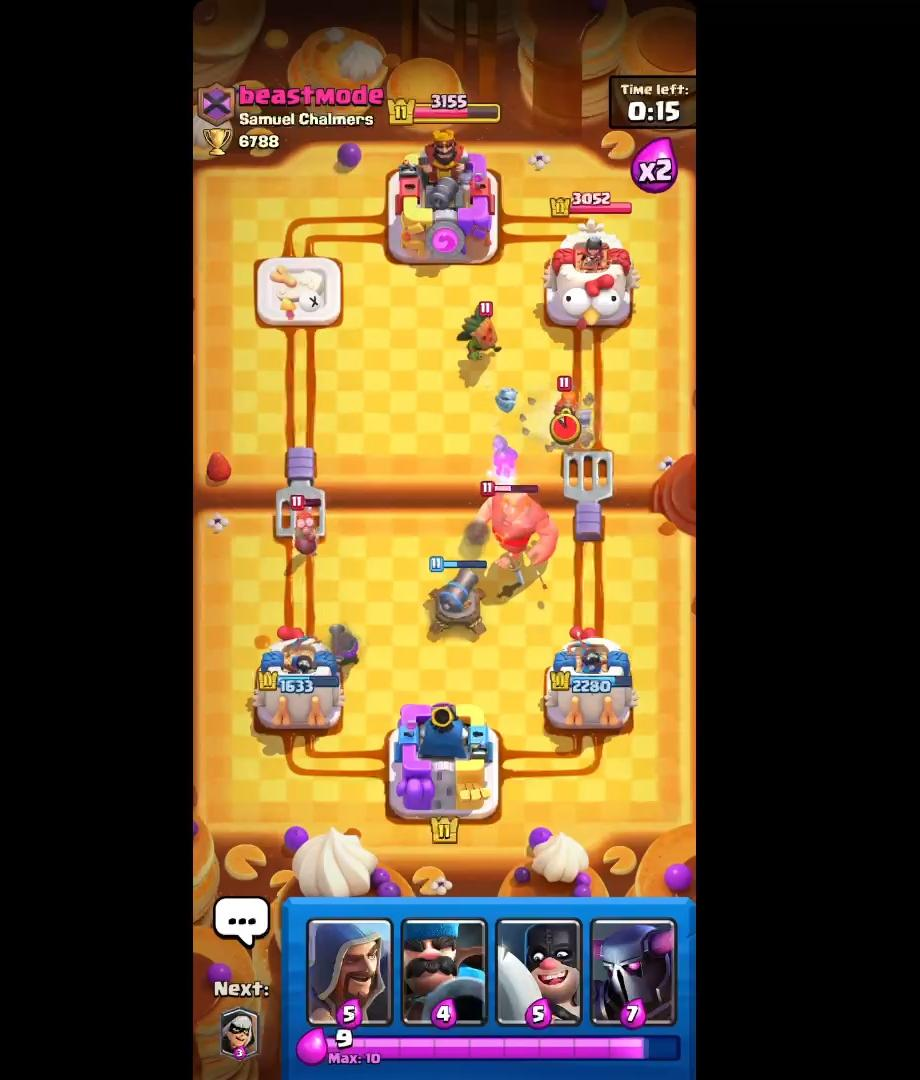Dart Goblin: (444, 296, 505, 370)
Giant: (472, 482, 557, 577)
